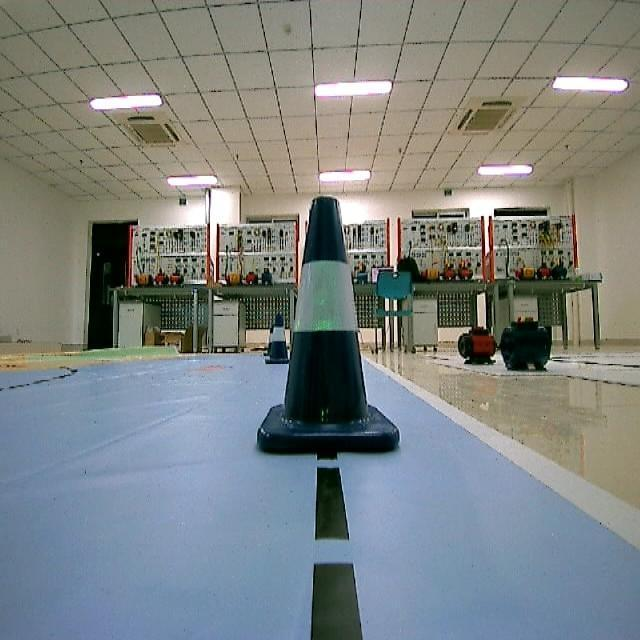obstacle: (251, 191, 418, 464), (260, 309, 294, 365)
